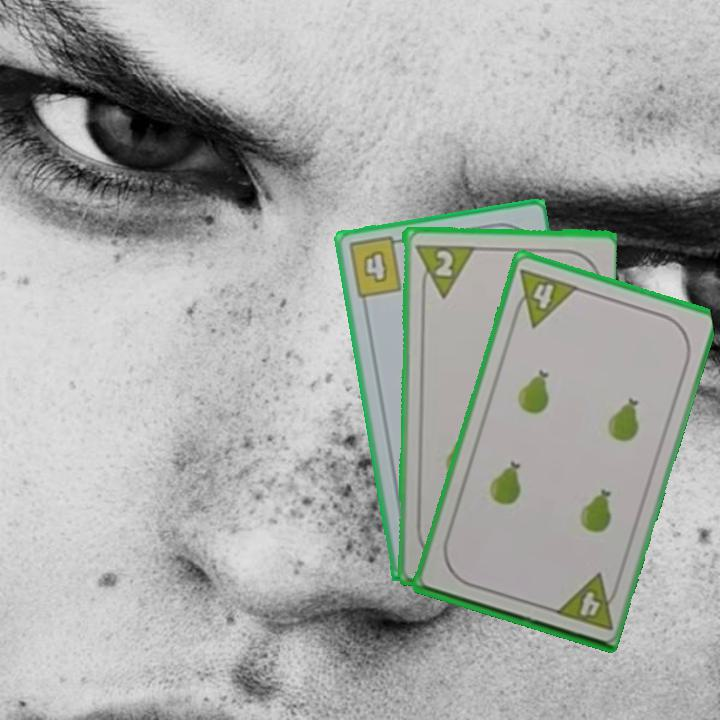2p: (431, 247, 455, 280)
4b: (344, 233, 408, 301)
4p: (508, 264, 581, 330), (550, 570, 623, 633)
